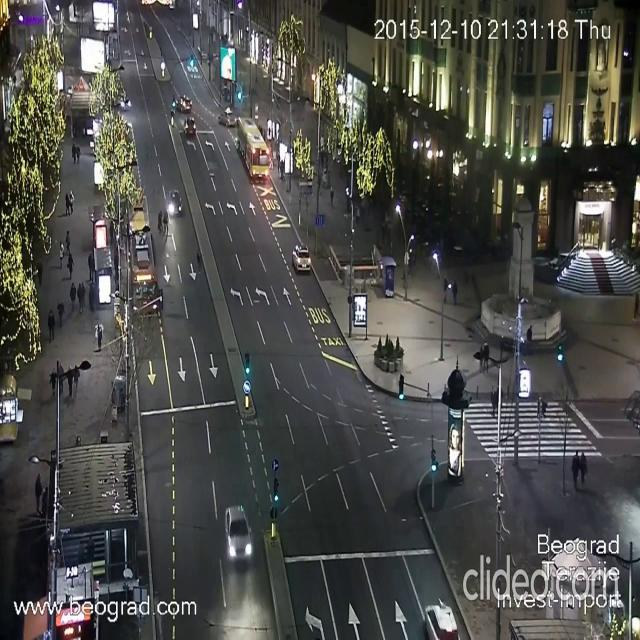bus: (127, 186, 157, 314), (236, 116, 270, 182)
car: (224, 504, 252, 562), (424, 598, 460, 639), (292, 243, 311, 273), (170, 188, 182, 216), (175, 93, 192, 112), (184, 117, 196, 139), (222, 110, 236, 126)
